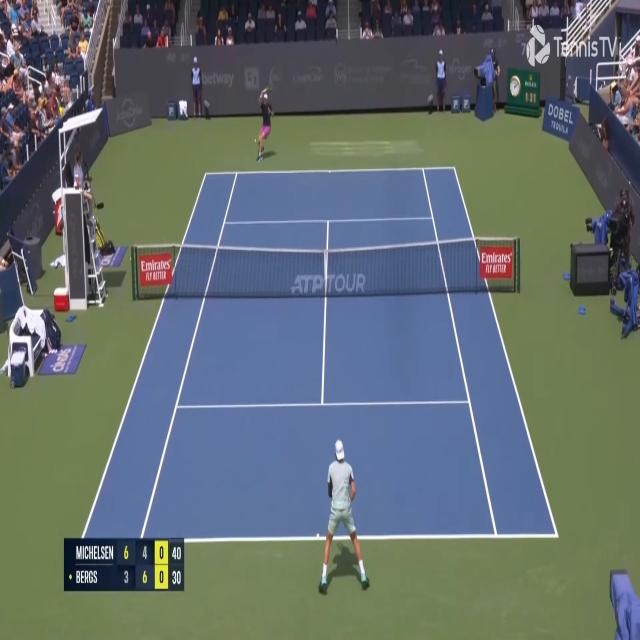tennis-player: (315, 437, 374, 600), (253, 87, 274, 164)
